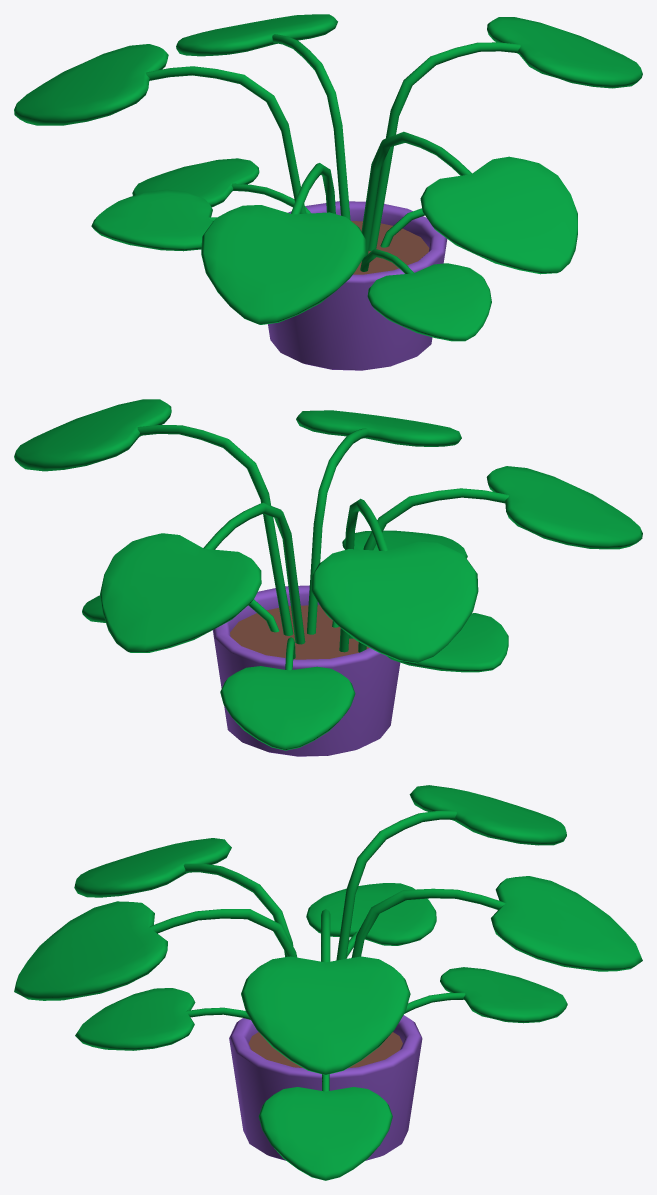
Rendered from City_9_Plant_1.glb.
The picture shows the model from 3 angles, top to bottom: view 1: azimuth 30°, elevation 25°; view 2: azimuth 150°, elevation 25°; view 3: azimuth 270°, elevation 25°; orthographic projection.
Visible parts, largest first — view 1: City_9_Plant_1; view 2: City_9_Plant_1; view 3: City_9_Plant_1.
Boxes of the visible parts, left/top/right/bottom form: City_9_Plant_1: left=14, top=14, right=642, bottom=370; City_9_Plant_1: left=14, top=399, right=642, bottom=756; City_9_Plant_1: left=14, top=785, right=642, bottom=1180.
Bounding box in the file's own units: 2.12 × 1.03 × 2.2.
1 material, 1 textured.
